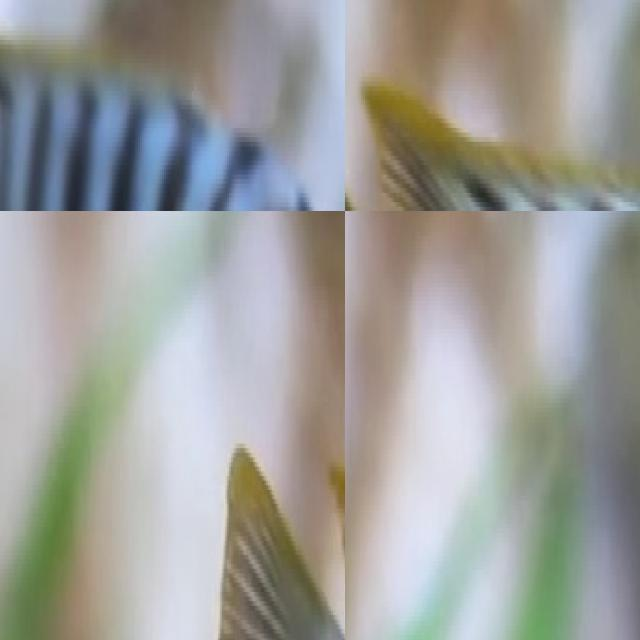fish: (0, 0, 345, 211), (345, 53, 640, 211), (181, 443, 345, 640)
